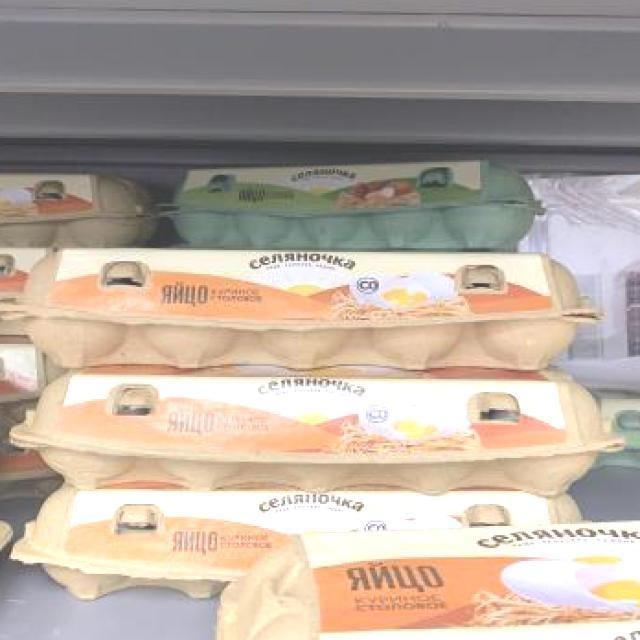egg: (0, 245, 607, 372), (5, 370, 626, 494), (9, 487, 604, 598), (152, 159, 554, 251), (0, 168, 151, 246), (601, 382, 640, 469)
